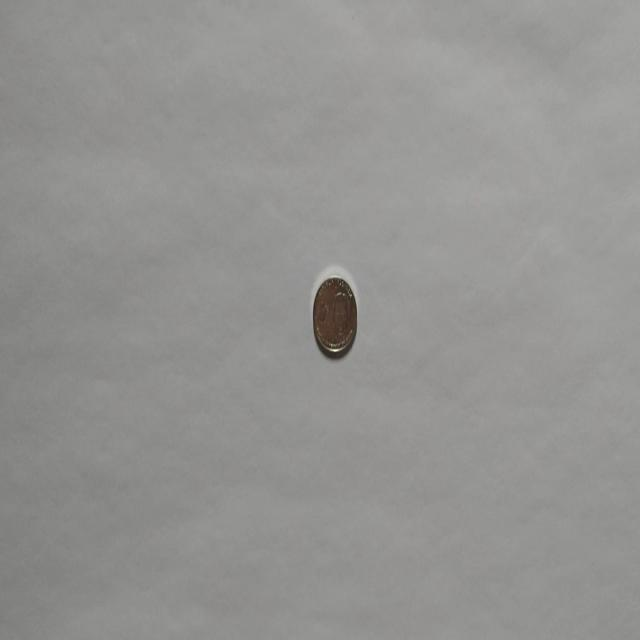seratus rupiah: (312, 274, 358, 358)
